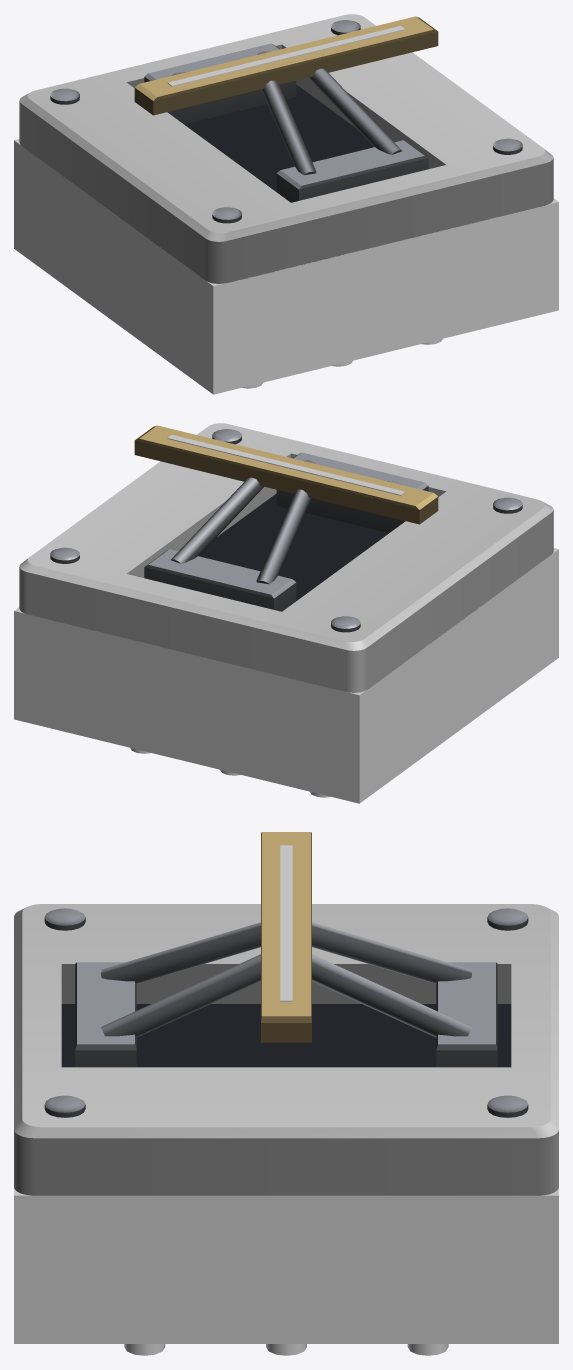
The model's file is part_power_pickup.glb.
The picture shows the model from 3 angles, top to bottom: view 1: azimuth 30°, elevation 25°; view 2: azimuth 150°, elevation 25°; view 3: azimuth 270°, elevation 25°; orthographic projection. The views are drawn at different scales.
Parts seen in each view (by area): view 1: Plattform, Gehaeuse, Korpus, Licht; view 2: Plattform, Gehaeuse, Korpus, Licht; view 3: Plattform, Gehaeuse, Korpus, Licht, Stecker.
Boxes of the visible parts, left/top/right/bottom form: Plattform: left=19, top=14, right=553, bottom=283; Gehaeuse: left=14, top=139, right=558, bottom=394; Korpus: left=50, top=16, right=522, bottom=223; Licht: left=167, top=26, right=405, bottom=86; Plattform: left=19, top=423, right=553, bottom=692; Gehaeuse: left=14, top=548, right=558, bottom=803; Korpus: left=50, top=425, right=522, bottom=632; Licht: left=167, top=435, right=405, bottom=495; Plattform: left=14, top=904, right=558, bottom=1195; Gehaeuse: left=14, top=1188, right=558, bottom=1343; Korpus: left=44, top=832, right=528, bottom=1117; Licht: left=280, top=845, right=292, bottom=1001; Stecker: left=124, top=1344, right=448, bottom=1355.
Bounding box in the file's own units: 0.8 × 0.59 × 0.8.
